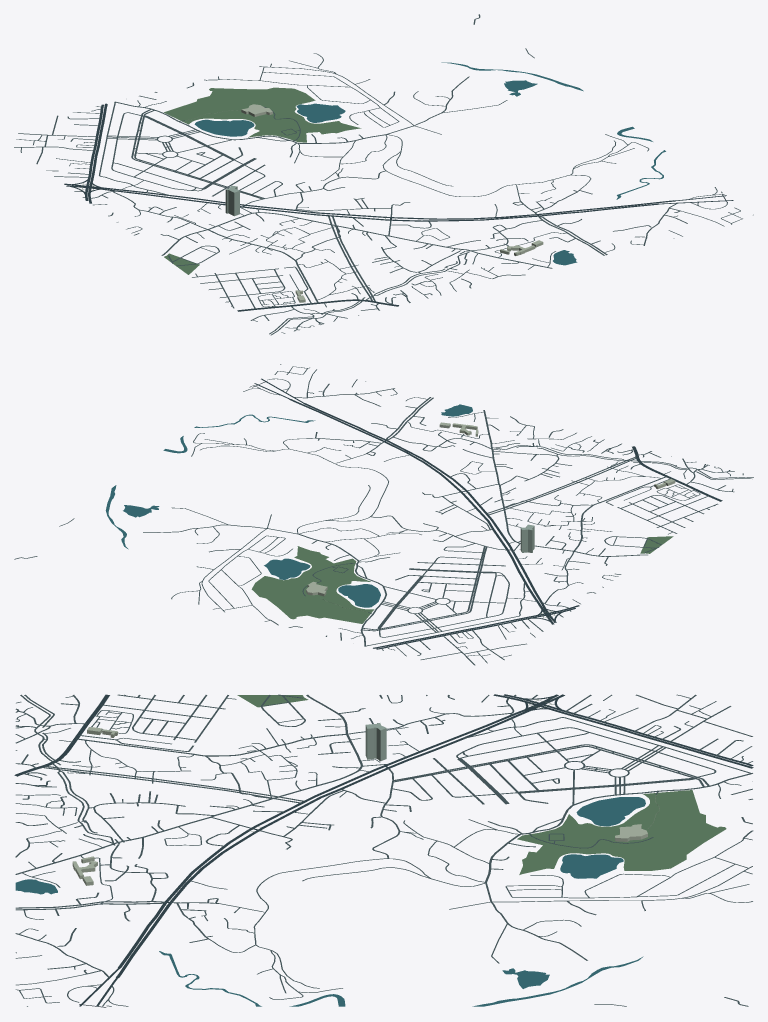
3 views of the same model, one above another, from view 1: azimuth 30°, elevation 25°; view 2: azimuth 150°, elevation 25°; view 3: azimuth 270°, elevation 25° (orthographic). The views are drawn at different scales.
Visible parts, largest first — view 1: street, green, major, water, building; view 2: street, green, major, water, building; view 3: street, green, major, water, building, building-tagged.
Boxes of the visible parts, x1,y1,x2,y2 form: street: (14, 14, 753, 335); green: (164, 87, 361, 274); major: (64, 103, 733, 311); water: (194, 62, 665, 265); building: (241, 104, 543, 302); street: (14, 364, 753, 665); green: (251, 536, 673, 623); major: (254, 378, 722, 649); water: (105, 404, 472, 607); building: (306, 422, 675, 596); street: (15, 694, 753, 1006); green: (237, 695, 726, 874); major: (14, 694, 753, 1006); water: (15, 797, 645, 1006); building: (72, 727, 647, 885); building-tagged: (365, 723, 386, 761).
Bounding box in the file's own units: 2007 × 97.8 × 2008.
